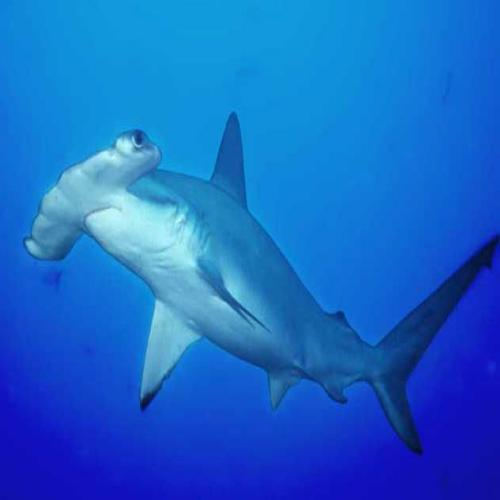shark-endangered: (21, 112, 498, 458)
